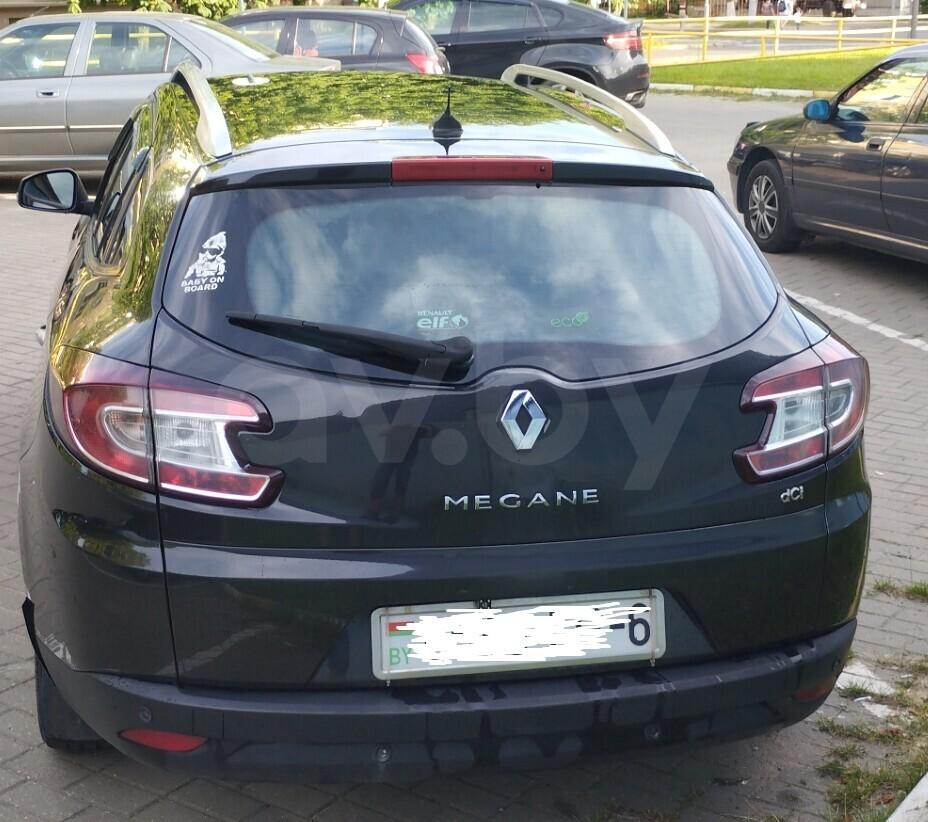Megane_2008-2014: (18, 57, 868, 799)
